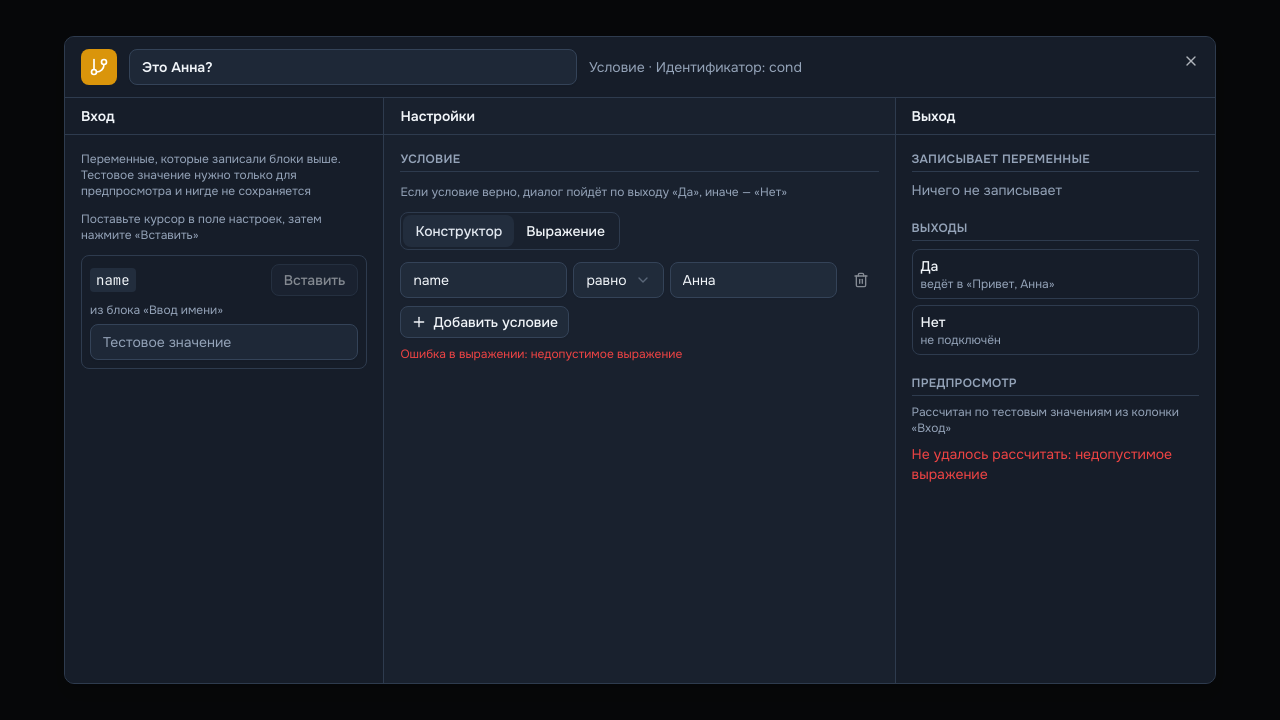
Test case: BlockDialog › конструктор условий › «Вставить» в поле значения вставляет имя в позицию курсора
The image size is (1280, 720).
Focus the field named "Значение 1" at (753, 280), box [670,262,836,298]
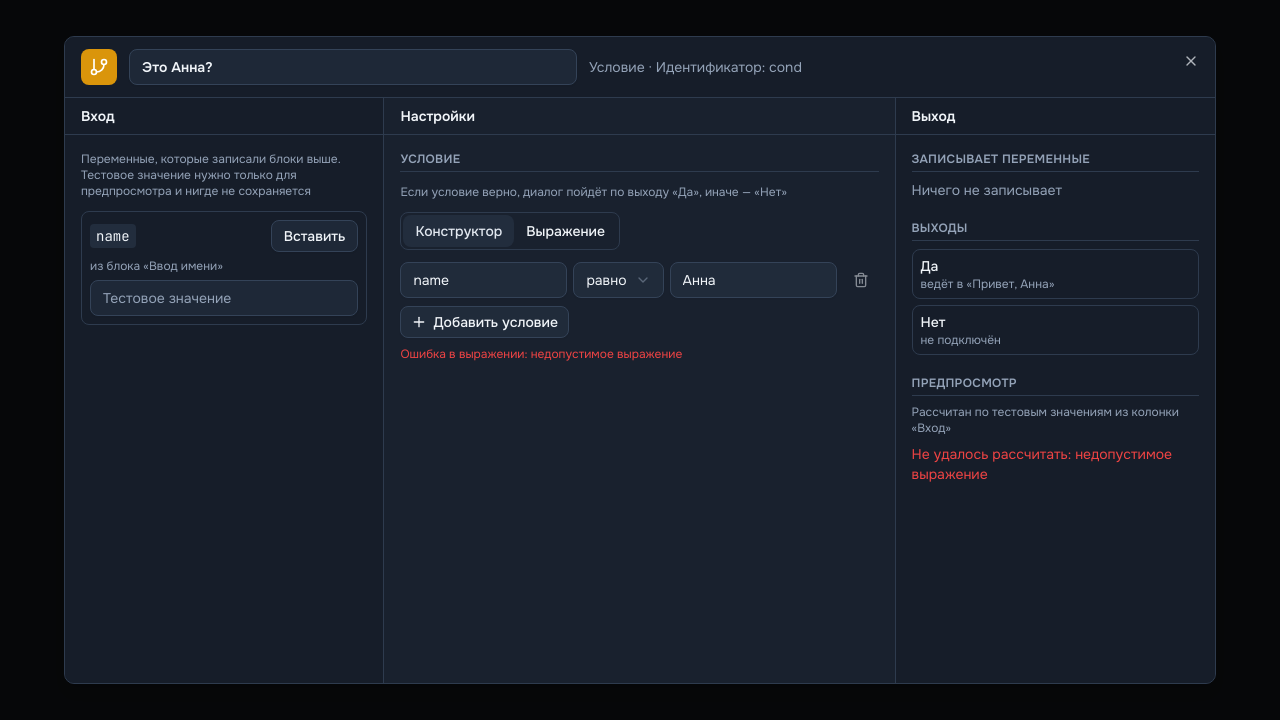
Click the button "Вставить" at (314, 236), box [271,220,358,252]
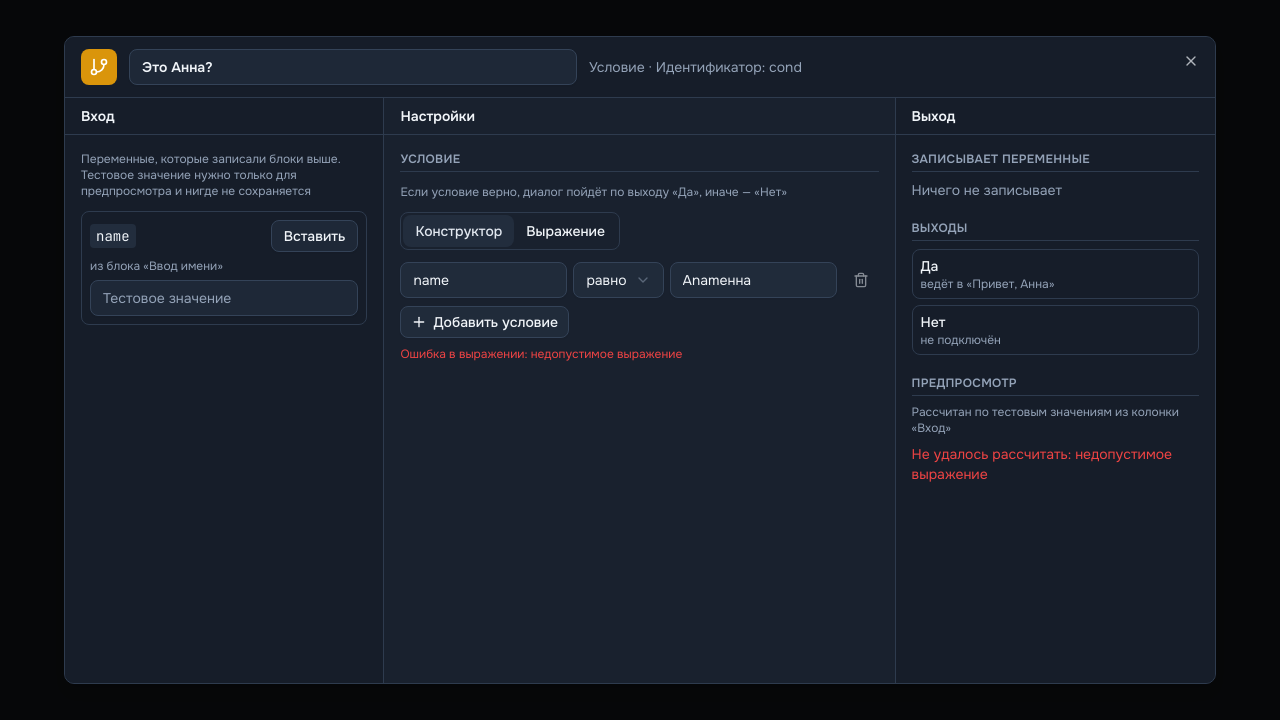
Expected: the field named "Значение 1" holds "Аnameнна", [670,262,836,298]
